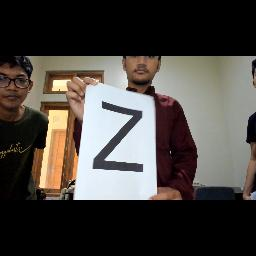z: (90, 98, 148, 174)
